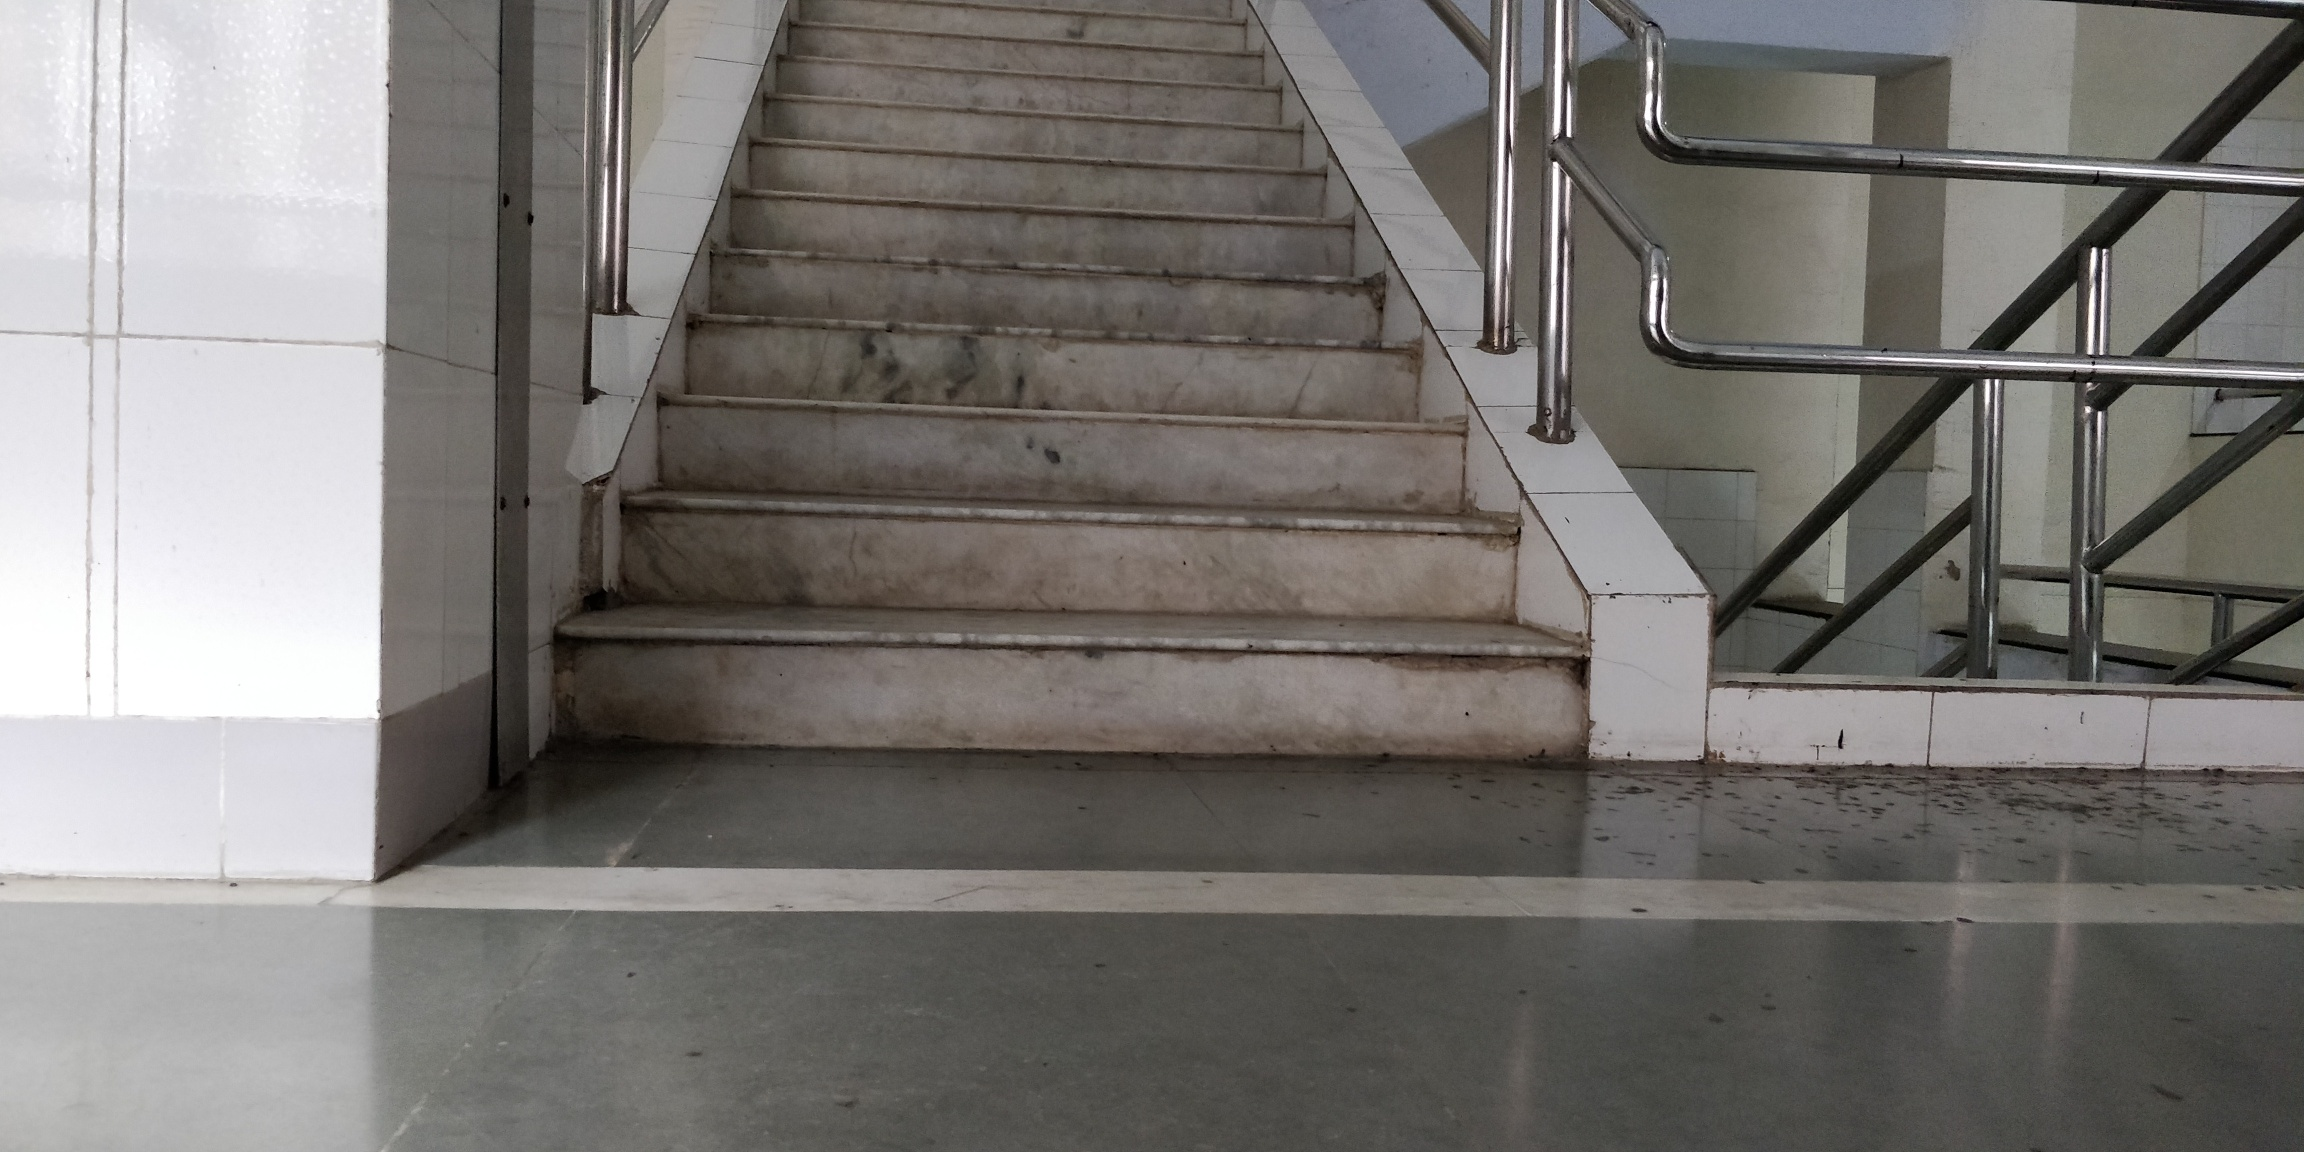stairs_up: (544, 1, 1583, 776)
